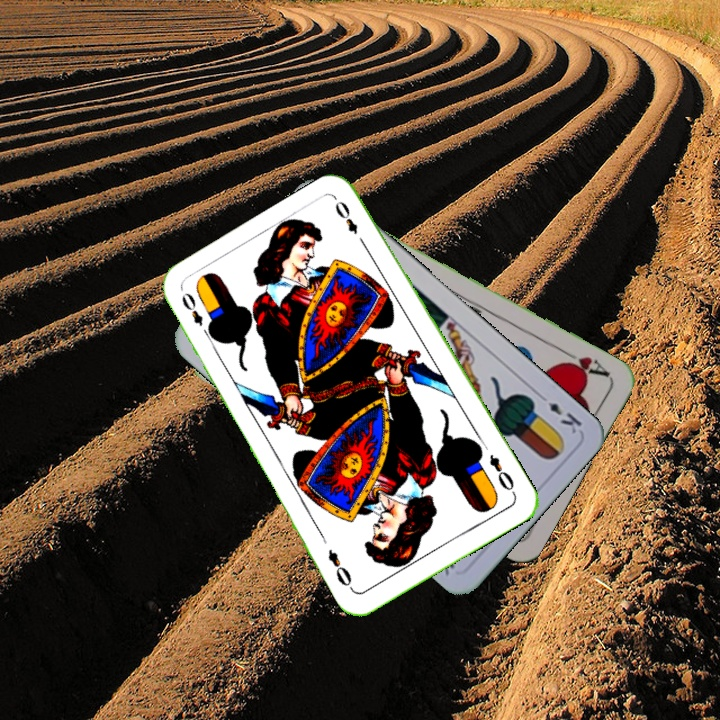EK: (534, 389, 585, 437)
EO: (485, 450, 518, 498), (177, 288, 206, 329)
HA: (557, 345, 612, 380)
